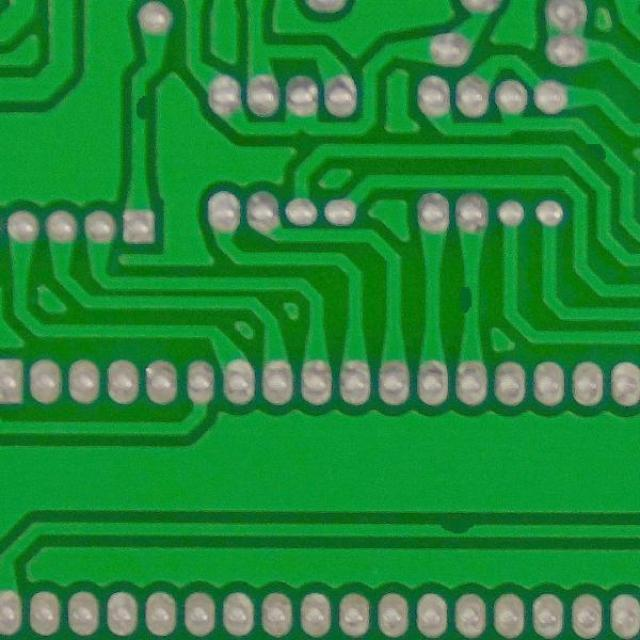MouseBite: (454, 277, 484, 320), (578, 134, 615, 168), (431, 518, 483, 541), (125, 89, 152, 128)
